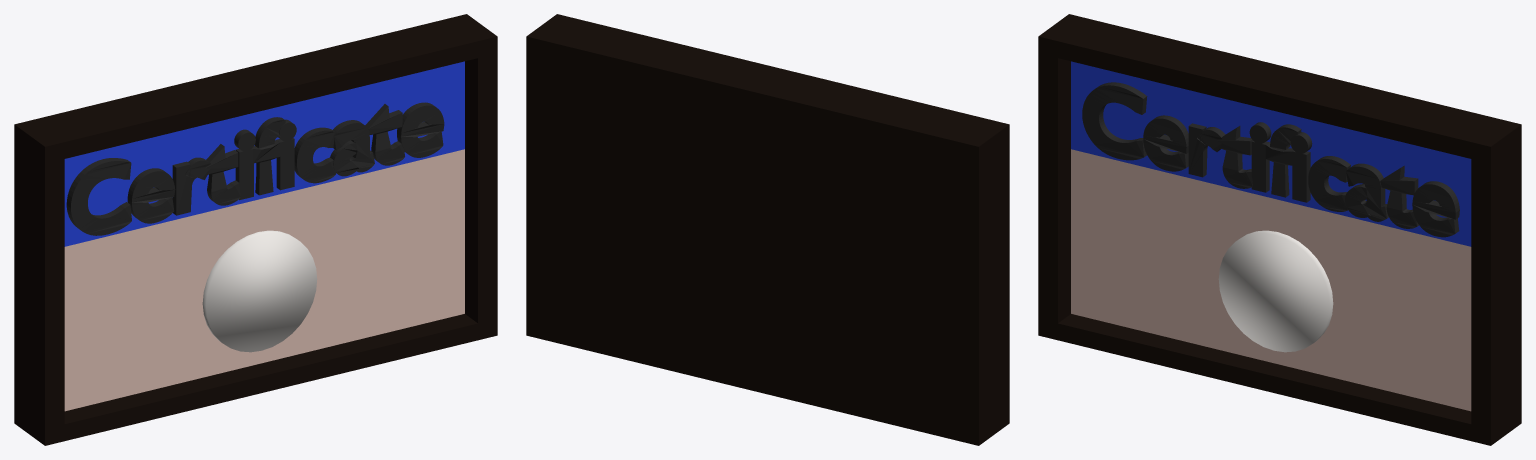
Rendered from Certificate_2.fbx.
3 views of the same model, side by side, from view 1: azimuth 30°, elevation 25°; view 2: azimuth 150°, elevation 25°; view 3: azimuth 330°, elevation 25° (orthographic).
Parts seen in each view (by area): view 1: Cube; view 2: Cube; view 3: Cube.
Part boxes in pixels (x1,y1,x2,y2): Cube: [14, 14, 497, 445]; Cube: [526, 14, 1009, 445]; Cube: [1038, 14, 1521, 445].
Size of the model in its own units: 78.57 by 49.63 by 9.24.
